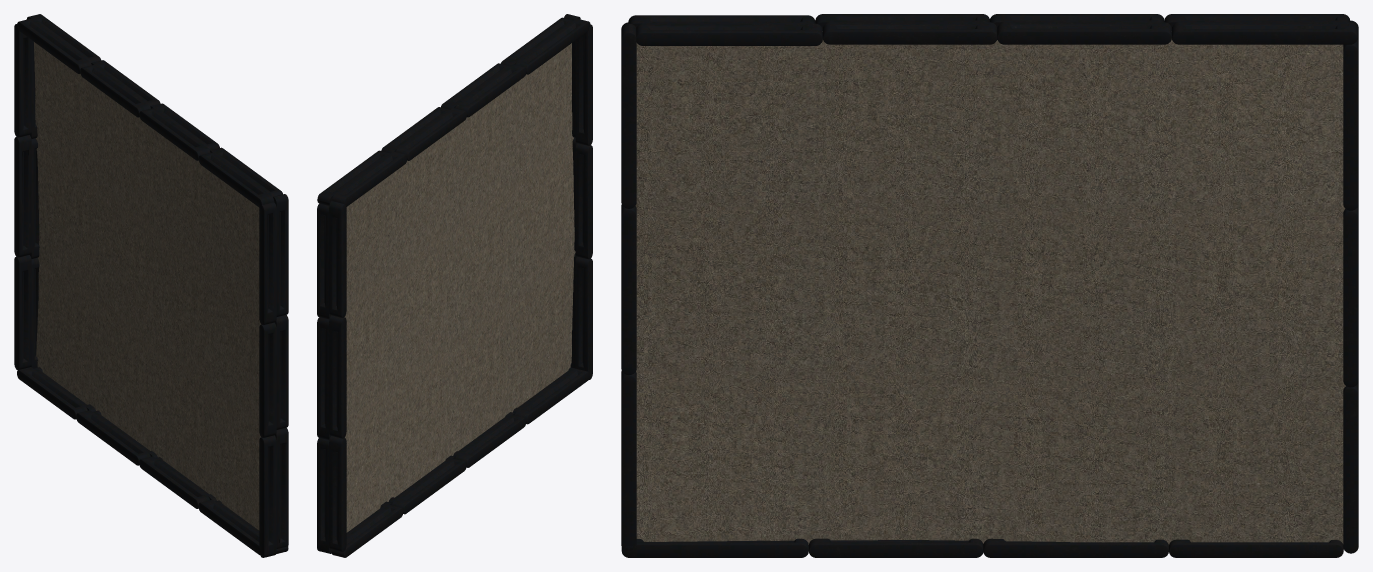
Rendered from cP_PlaygroundContainer_Small.dae.
3 renders of one model, left to right at view 1: azimuth 30°, elevation 25°; view 2: azimuth 150°, elevation 25°; view 3: azimuth 270°, elevation 25°, orthographic. The views are drawn at different scales.
Parts seen in each view (by area): view 1: cP_PlaygroundContainer_Small.001; view 2: cP_PlaygroundContainer_Small.001; view 3: cP_PlaygroundContainer_Small.001.
Boxes of the visible parts, x1=… form: cP_PlaygroundContainer_Small.001: x1=14, y1=14, x2=288, y2=557; cP_PlaygroundContainer_Small.001: x1=317, y1=14, x2=592, y2=557; cP_PlaygroundContainer_Small.001: x1=621, y1=14, x2=1358, y2=557.
Size of the model in its own units: 0.4689 by 8.17 by 6.46.
